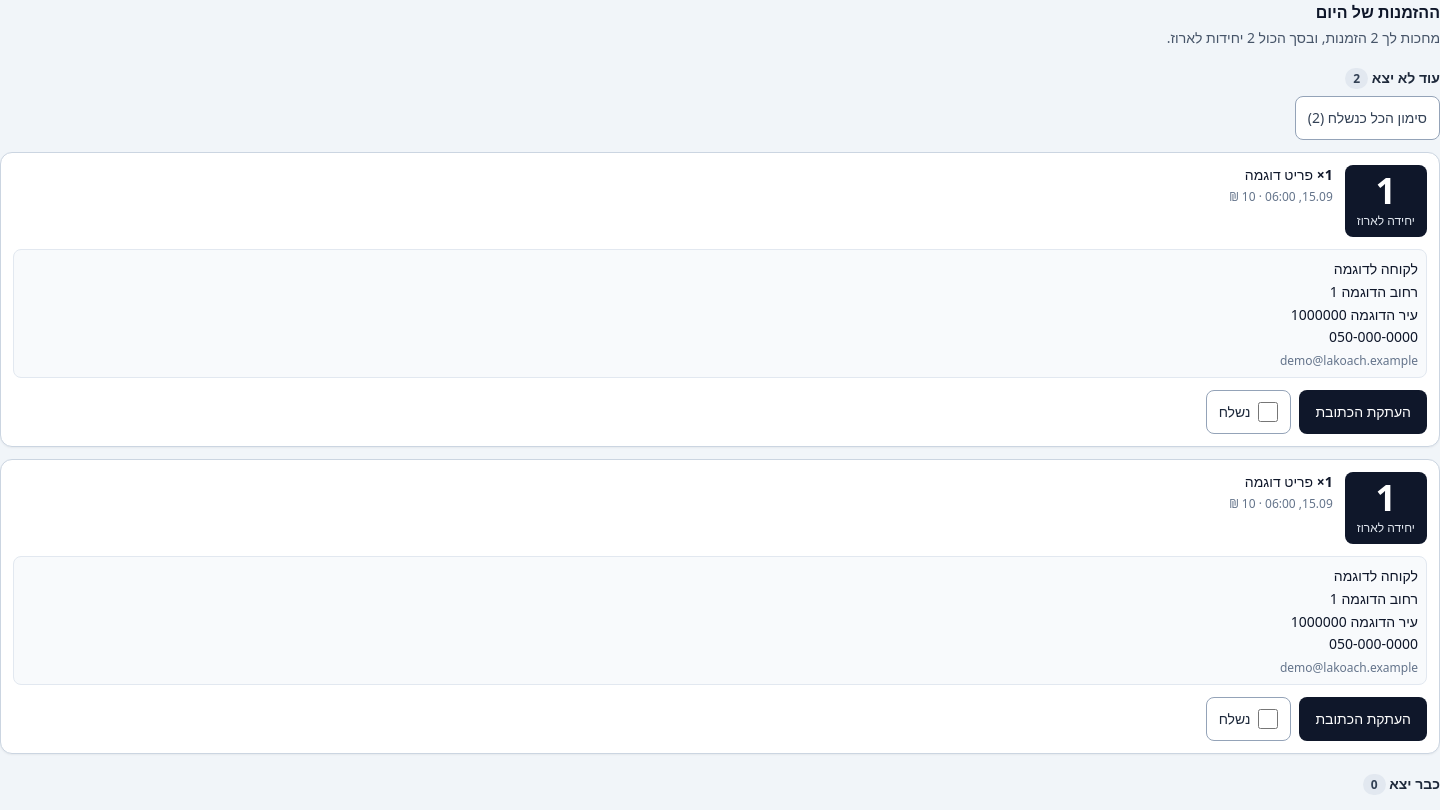
Test: ★★ באנר הביטול › ★★ שורד את היעלמות הרשימה — ומחזיר את אותם מזהים בדיוק
Click the button "סימון הכל כנשלח (2)" at (1367, 118), box 1295,96 -> 1439,140
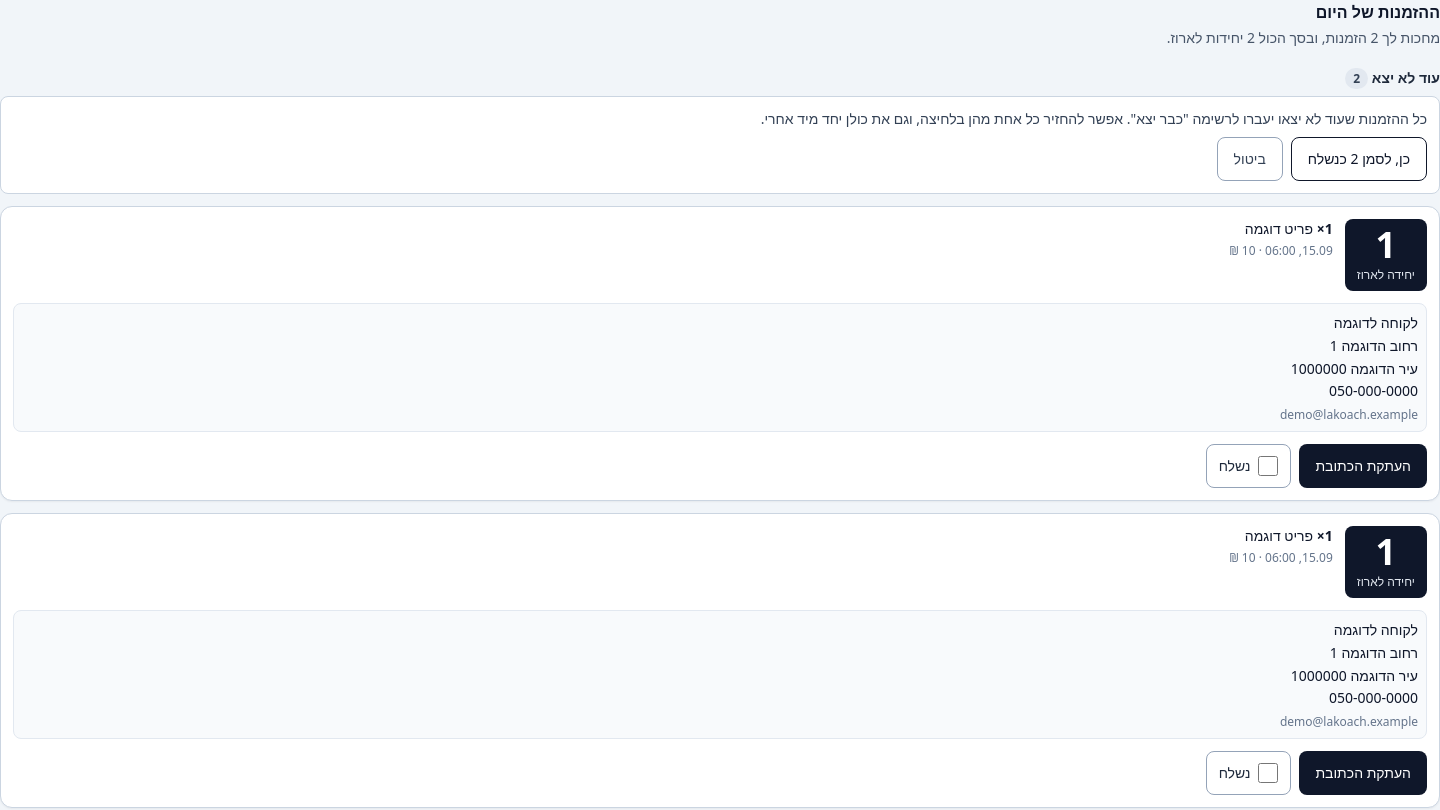
Click the button "כן, לסמן 2 כנשלח" at (1359, 159), box 1291,137 -> 1427,181
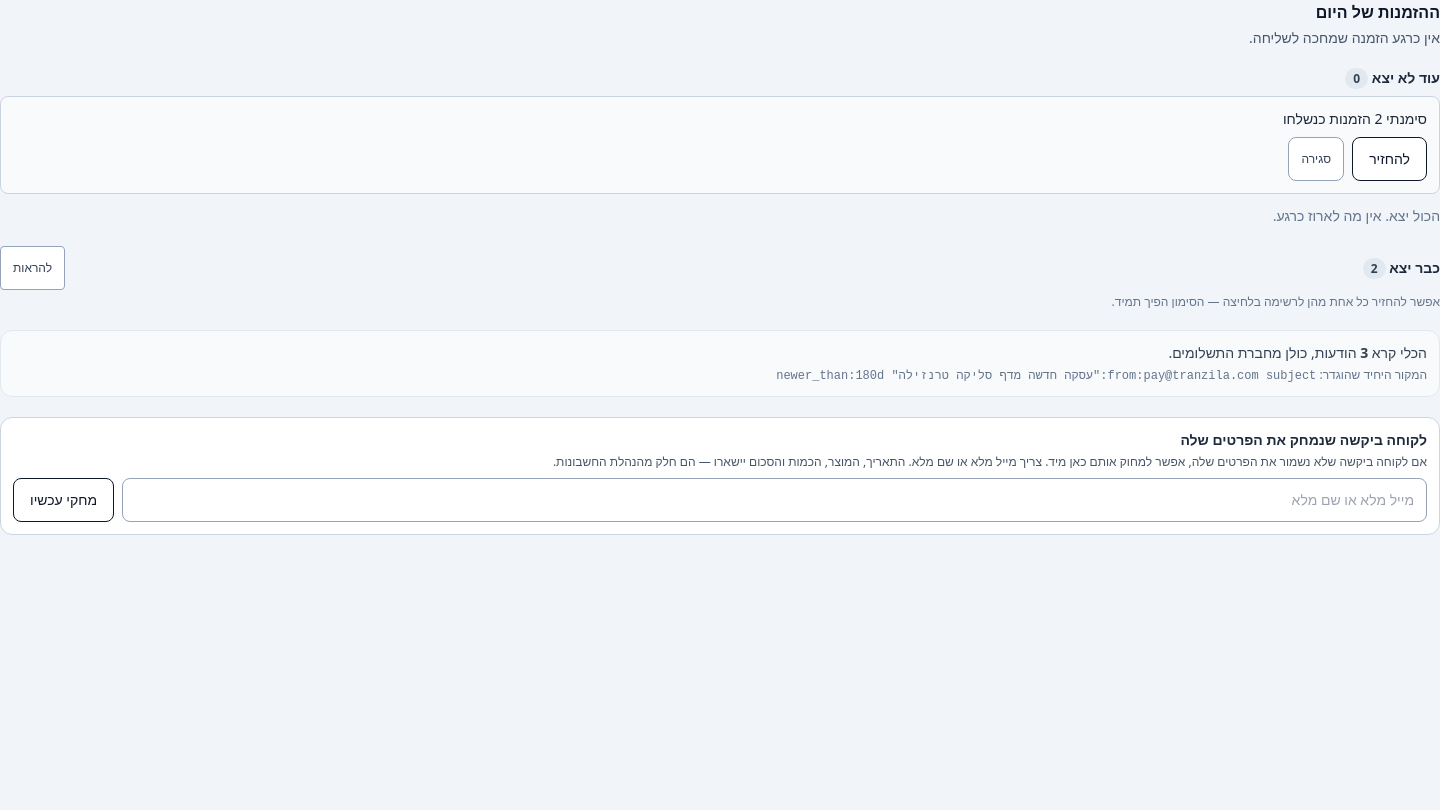
Now the text "הכול יצא. אין מה לארוז כרגע." is shown, box 1273,206 -> 1439,225
Now the text "סימנתי 2" is shown, box 1283,109 -> 1427,128
Click the button "להחזיר" at (1390, 159), box 1352,137 -> 1427,181
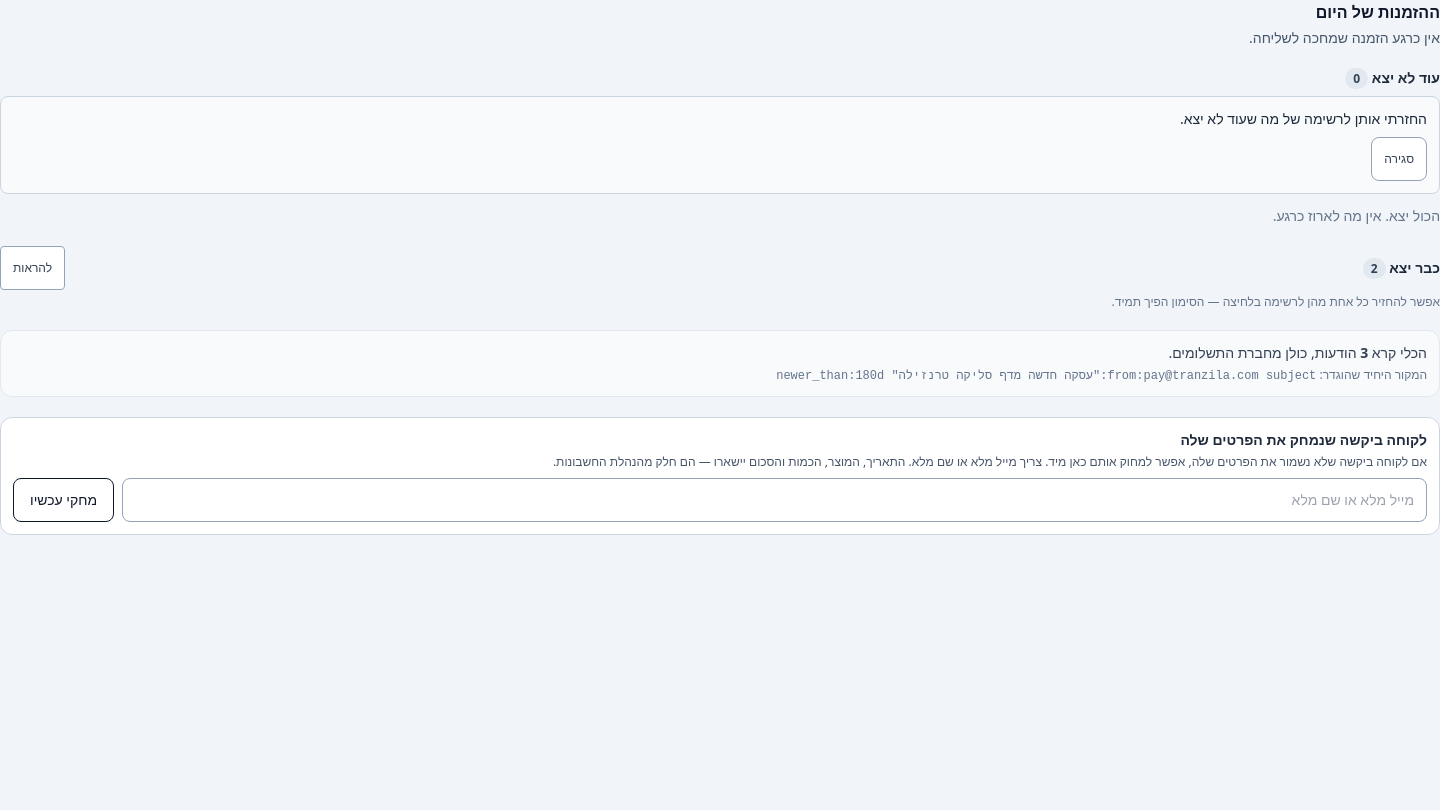
Now the text "החזרתי אותן לרשימה של מה שעוד לא יצא." is shown, box 1180,109 -> 1427,128
